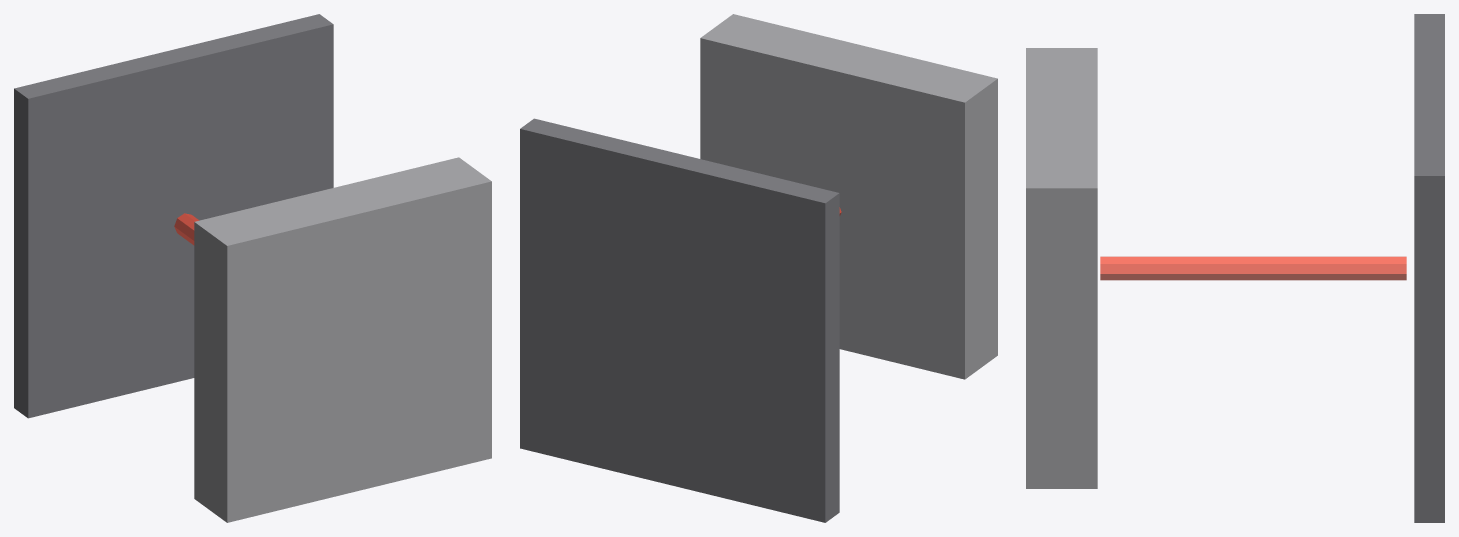
File: 05_crushing_ceiling_trap.glb
3 renders of one model, left to right at view 1: azimuth 30°, elevation 25°; view 2: azimuth 150°, elevation 25°; view 3: azimuth 270°, elevation 25°, orthographic. The views are drawn at different scales.
Visible parts, largest first — view 1: ceiling_block, trap_base; view 2: trap_base, ceiling_block; view 3: ceiling_block, trap_base, warning_beam.
Part boxes in pixels (left/top/right/bottom): ceiling_block: left=194, top=157, right=491, bottom=522; trap_base: left=14, top=14, right=333, bottom=418; trap_base: left=520, top=118, right=839, bottom=522; ceiling_block: left=700, top=14, right=997, bottom=379; ceiling_block: left=1026, top=48, right=1097, bottom=488; trap_base: left=1414, top=14, right=1444, bottom=522; warning_beam: left=1100, top=256, right=1406, bottom=280.
Size of the model in its own units: 1.5 by 1.5 by 1.64.
